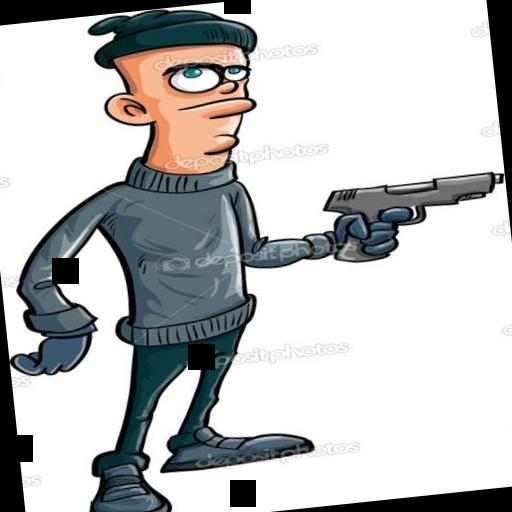Handgun: (312, 164, 512, 268)
